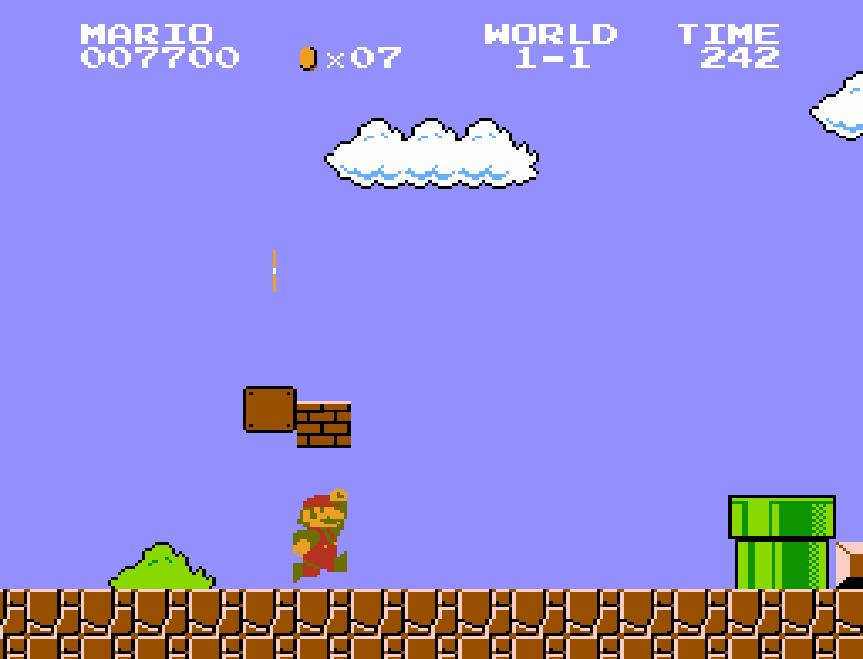big_mario: (291, 487, 349, 586)
